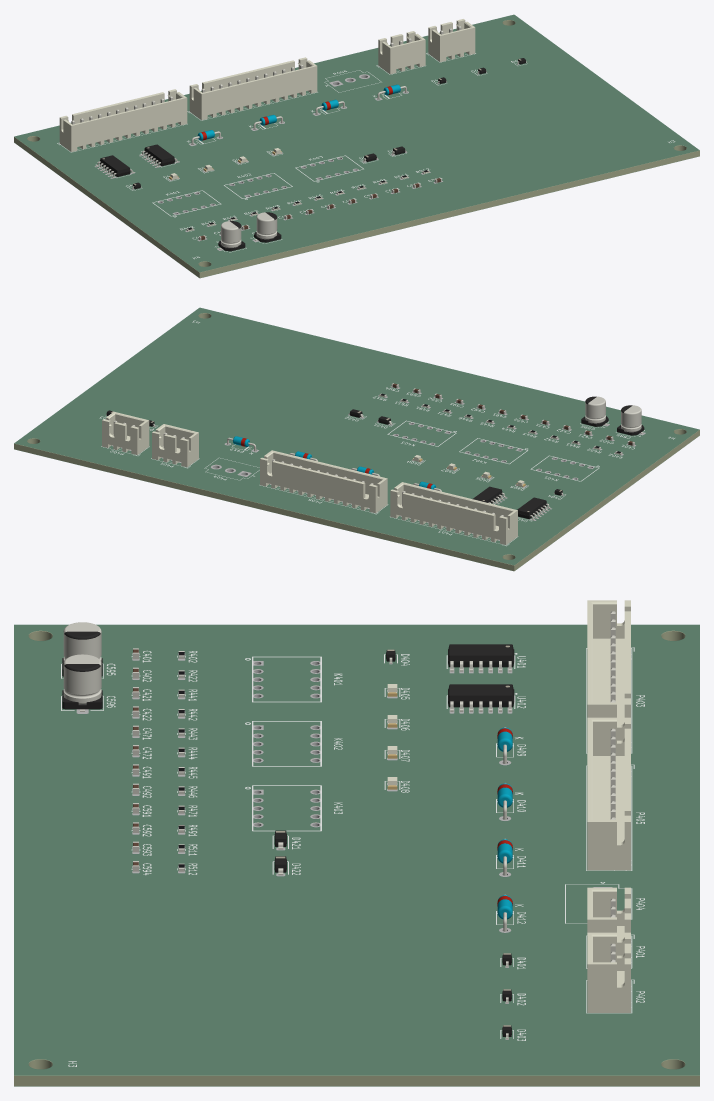
The model's file is filter-clipper.glb.
The picture shows the model from 3 angles, top to bottom: view 1: azimuth 30°, elevation 25°; view 2: azimuth 150°, elevation 25°; view 3: azimuth 270°, elevation 25°; orthographic projection. The views are drawn at different scales.
Visible parts, largest first — view 1: =>[0:1:1:26], =>[0:1:1:24], =>[0:1:1:17] (×2), =>[0:1:1:13] (×2), =>[0:1:1:23], =>[0:1:1:11] (×2), =>[0:1:1:22], =>[0:1:1:9] (×2); view 2: =>[0:1:1:24], =>[0:1:1:26], =>[0:1:1:17] (×2), =>[0:1:1:13] (×2), =>[0:1:1:23], =>[0:1:1:11] (×2), =>[0:1:1:22], =>[0:1:1:9]; view 3: =>[0:1:1:24], =>[0:1:1:26], =>[0:1:1:17] (×2), =>[0:1:1:23], =>[0:1:1:13] (×2), =>[0:1:1:11] (×2), =>[0:1:1:9] (×2), =>[0:1:1:22].
Boxes of the visible parts, left/top/right/bottom form: =>[0:1:1:26]: left=14, top=15, right=699, bottom=278; =>[0:1:1:24]: left=14, top=14, right=699, bottom=272; =>[0:1:1:17] (×2): left=59, top=57, right=317, bottom=151; =>[0:1:1:13] (×2): left=378, top=19, right=475, bottom=74; =>[0:1:1:23]: left=57, top=53, right=675, bottom=259; =>[0:1:1:11] (×2): left=218, top=212, right=281, bottom=251; =>[0:1:1:22]: left=94, top=62, right=526, bottom=250; =>[0:1:1:9] (×2): left=96, top=144, right=178, bottom=177; =>[0:1:1:24]: left=14, top=307, right=699, bottom=565; =>[0:1:1:26]: left=14, top=308, right=699, bottom=571; =>[0:1:1:17] (×2): left=260, top=450, right=517, bottom=544; =>[0:1:1:13] (×2): left=102, top=411, right=198, bottom=467; =>[0:1:1:23]: left=99, top=320, right=674, bottom=546; =>[0:1:1:11] (×2): left=581, top=396, right=644, bottom=435; =>[0:1:1:22]: left=106, top=386, right=645, bottom=540; =>[0:1:1:9]: left=517, top=497, right=550, bottom=520; =>[0:1:1:24]: left=14, top=624, right=699, bottom=1075; =>[0:1:1:26]: left=14, top=625, right=699, bottom=1086; =>[0:1:1:17] (×2): left=587, top=600, right=630, bottom=870; =>[0:1:1:23]: left=61, top=647, right=644, bottom=1066; =>[0:1:1:13] (×2): left=587, top=887, right=630, bottom=1012; =>[0:1:1:11] (×2): left=62, top=622, right=102, bottom=711; =>[0:1:1:9] (×2): left=448, top=644, right=514, bottom=711; =>[0:1:1:22]: left=76, top=653, right=612, bottom=1039.
Size of the model in its own units: 0.14 by 0.0104 by 0.09.
